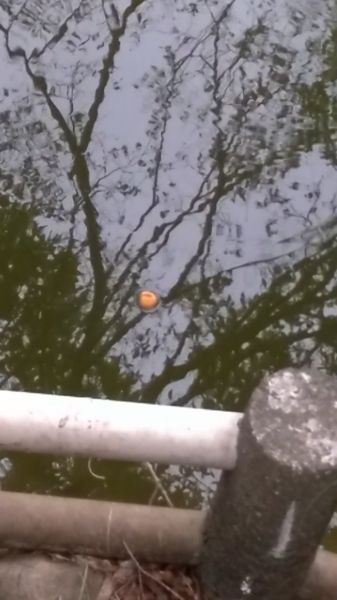eggs: (133, 285, 161, 314)
